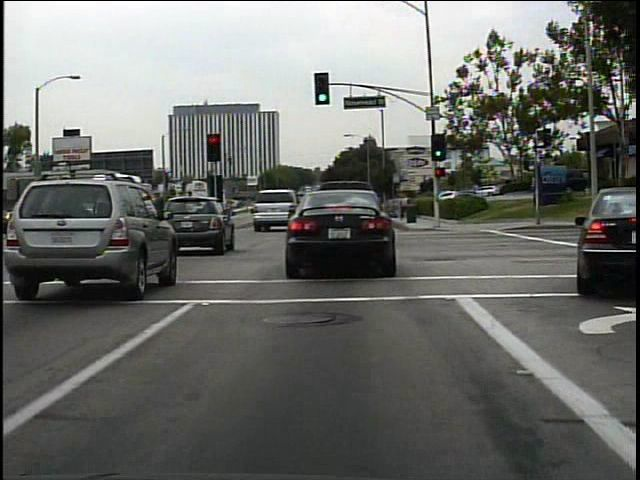person: (397, 192, 410, 223)
